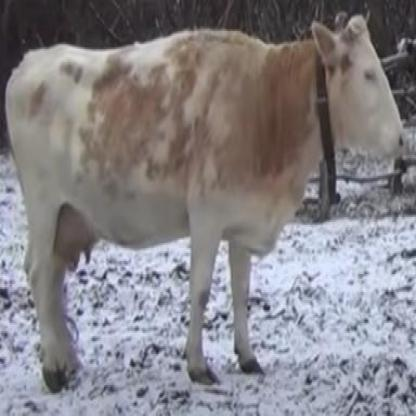cow: (7, 20, 405, 388)
